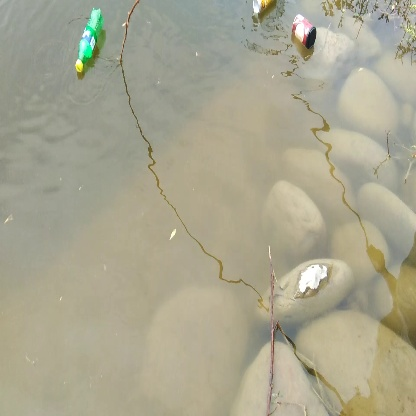bottle: (75, 6, 107, 78), (289, 9, 321, 49)
